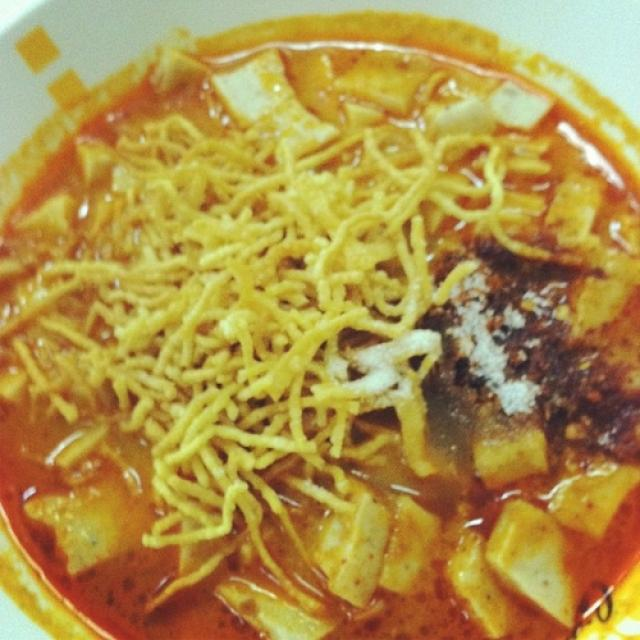面条主食: (19, 18, 616, 621)
